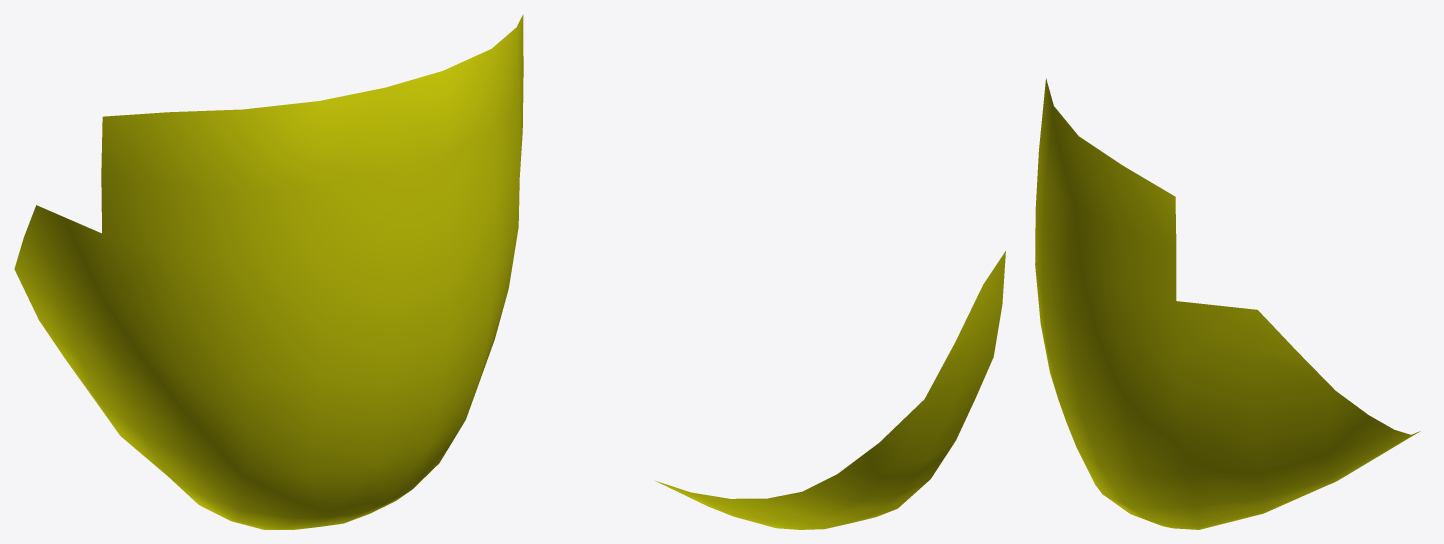
Rendered from Faceline_2.glb.
3 views of the same model, side by side, from view 1: azimuth 30°, elevation 25°; view 2: azimuth 150°, elevation 25°; view 3: azimuth 270°, elevation 25° (orthographic). The views are drawn at different scales.
Size of the model in its own units: 52.6 by 53.56 by 43.82.
